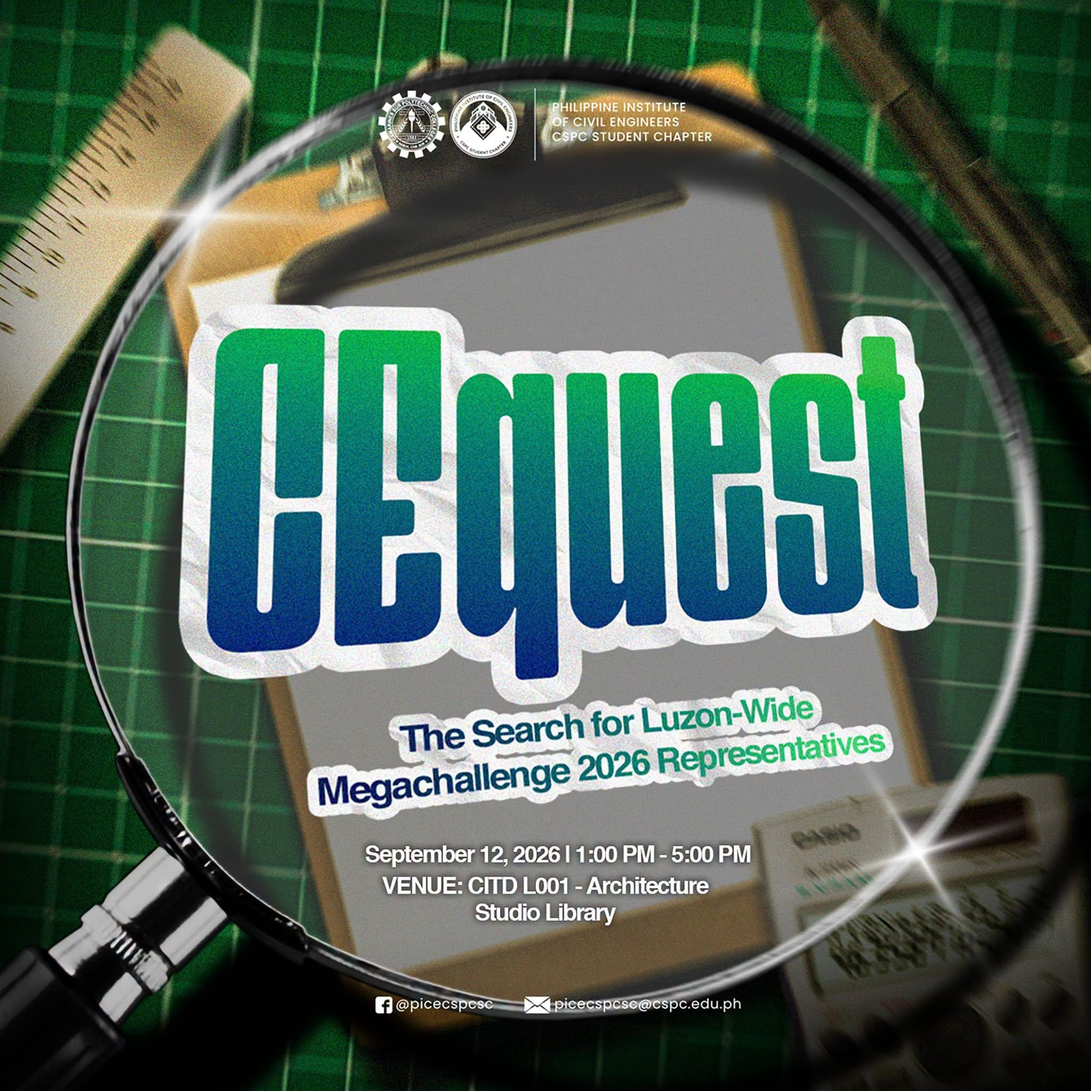embellishment: (0, 0, 1090, 1090)
logo: (450, 83, 521, 164), (377, 86, 451, 160), (452, 85, 523, 161), (380, 87, 451, 161), (523, 991, 556, 1017), (521, 992, 553, 1017), (374, 993, 394, 1016), (374, 994, 394, 1016)
text: (166, 282, 956, 938), (163, 286, 955, 938), (541, 92, 720, 152), (544, 95, 718, 151), (555, 994, 744, 1013), (558, 994, 745, 1013), (396, 995, 496, 1015), (395, 996, 494, 1013)
underlay: (149, 57, 939, 1033), (0, 0, 991, 270), (127, 926, 790, 1089), (0, 314, 148, 972), (880, 0, 1090, 261), (992, 318, 1090, 840)
